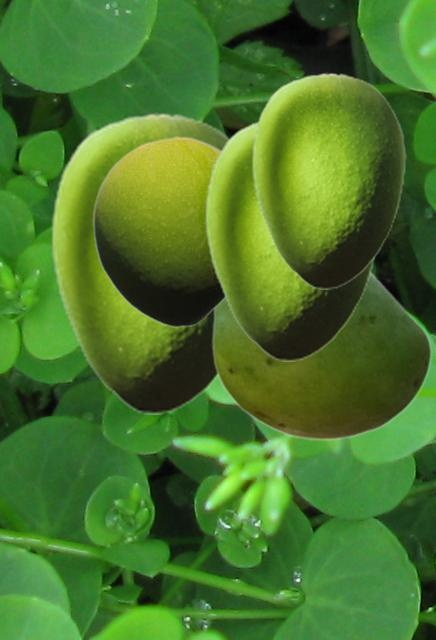green_mango: (50, 112, 231, 413), (204, 117, 378, 360), (211, 271, 431, 440), (251, 72, 405, 288), (92, 136, 224, 327)
